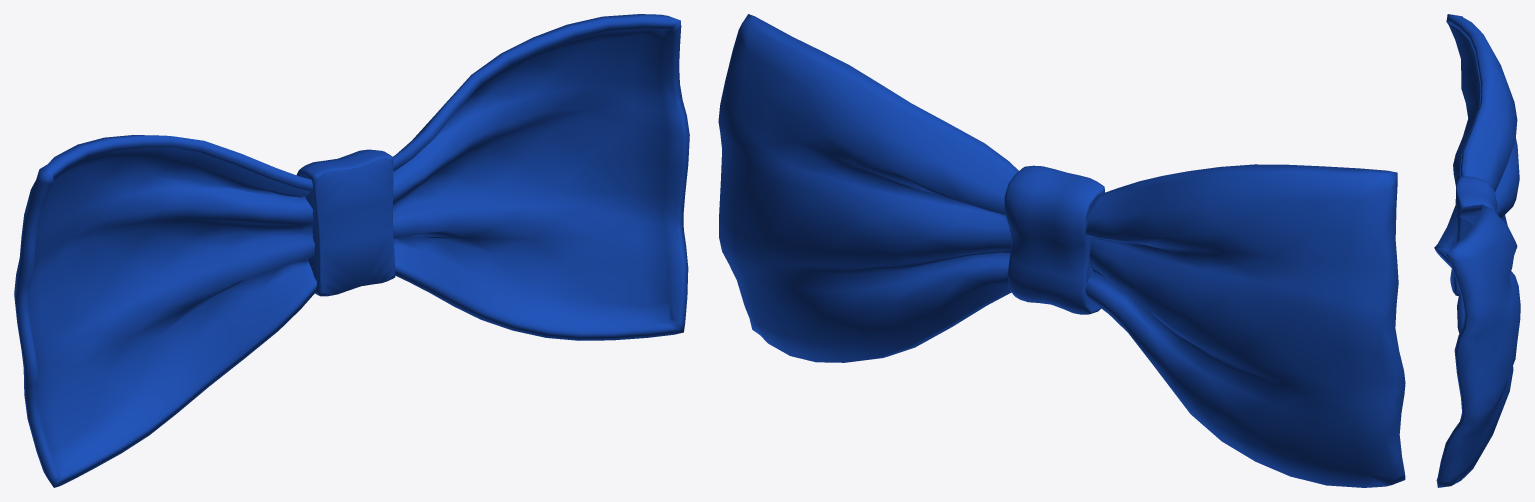
The model's file is bowtie.glb.
3 renders of one model, left to right at view 1: azimuth 30°, elevation 25°; view 2: azimuth 150°, elevation 25°; view 3: azimuth 270°, elevation 25°, orthographic. The views are drawn at different scales.
Visible parts, largest first — view 1: Tie_Line003_000_BowTie; view 2: Tie_Line003_000_BowTie; view 3: Tie_Line003_000_BowTie.
Part boxes in pixels (<box>): Tie_Line003_000_BowTie: <box>14,14,689,487</box>; Tie_Line003_000_BowTie: <box>718,14,1405,487</box>; Tie_Line003_000_BowTie: <box>1434,14,1520,487</box>.
Bounding box in the file's own units: 0.1405 × 0.0637 × 0.0206.
